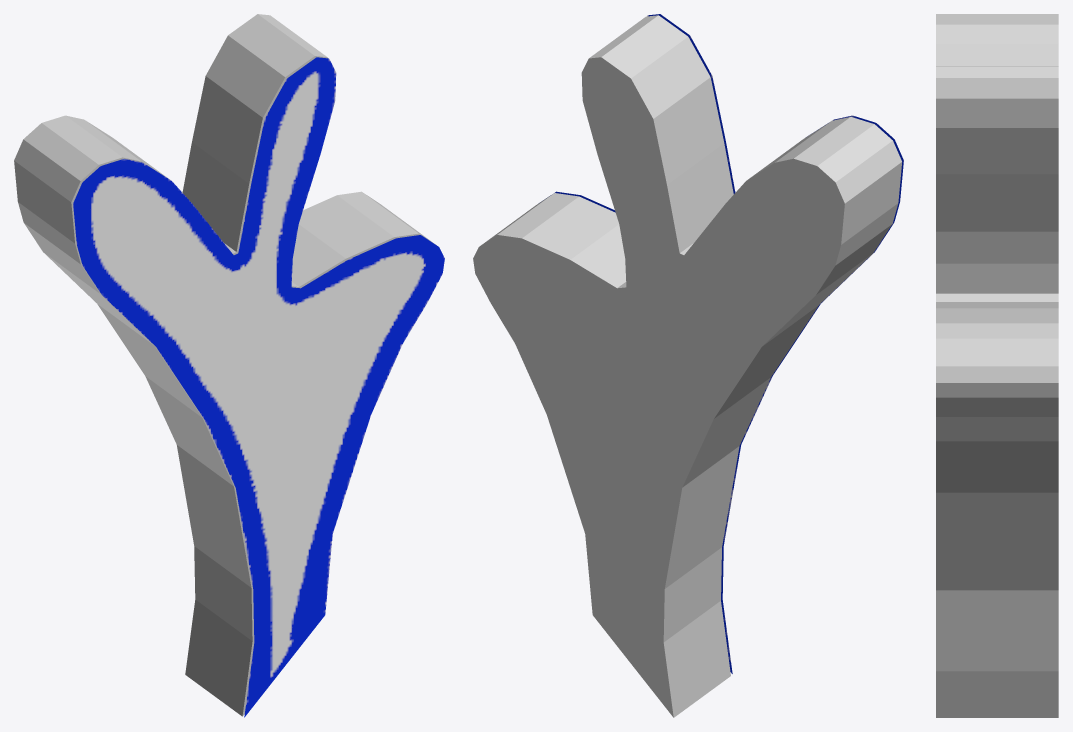
3 views of the same model, side by side, from view 1: azimuth 30°, elevation 25°; view 2: azimuth 150°, elevation 25°; view 3: azimuth 270°, elevation 25° (orthographic). The views are drawn at different scales.
Parts seen in each view (by area): view 1: In_4_1, In_4_0; view 2: In_4_0, In_4_1; view 3: In_4_0.
Boxes of the visible parts, <box> form: In_4_1: <box>73,57,444,717</box>; In_4_0: <box>14,14,435,716</box>; In_4_0: <box>473,15,901,717</box>; In_4_1: <box>550,14,903,673</box>; In_4_0: <box>936,14,1058,717</box>.
Size of the model in its own units: 1.87 by 3.1 by 0.515.
Materials: 2 (1 with a texture image).
